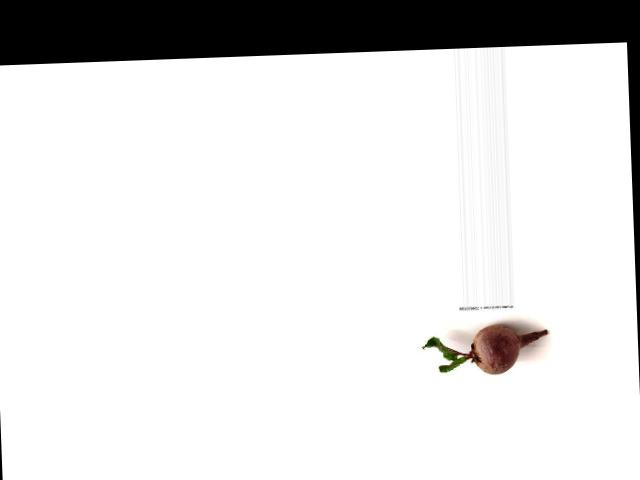beet: (421, 323, 547, 376)
